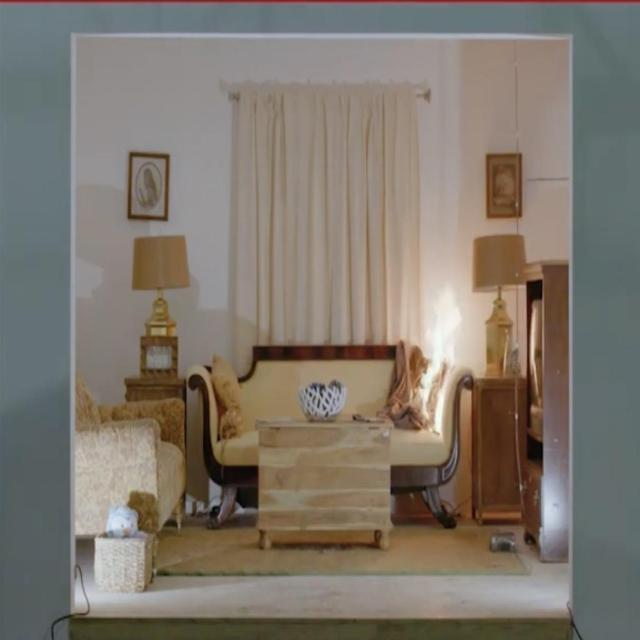smoke: (410, 281, 463, 434)
